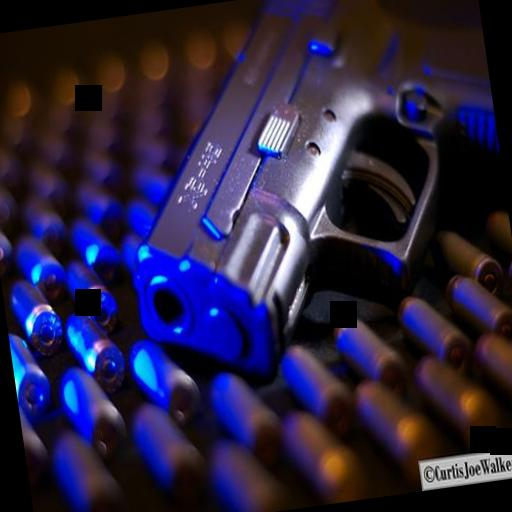Handgun: (100, 0, 512, 382)
